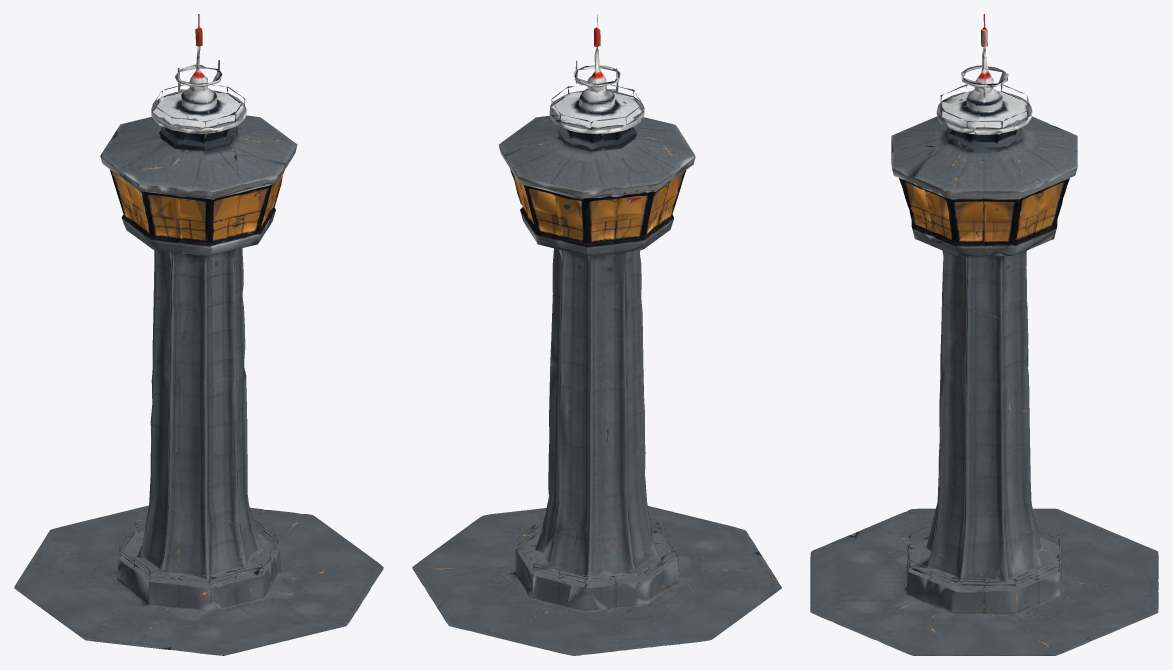
Rendered from co_tower_p.glb.
3 renders of one model, left to right at view 1: azimuth 30°, elevation 25°; view 2: azimuth 150°, elevation 25°; view 3: azimuth 270°, elevation 25°, orthographic.
Bounding box in the file's own units: 1.06 × 1.9 × 1.05.
Materials: 1 (1 with a texture image).
